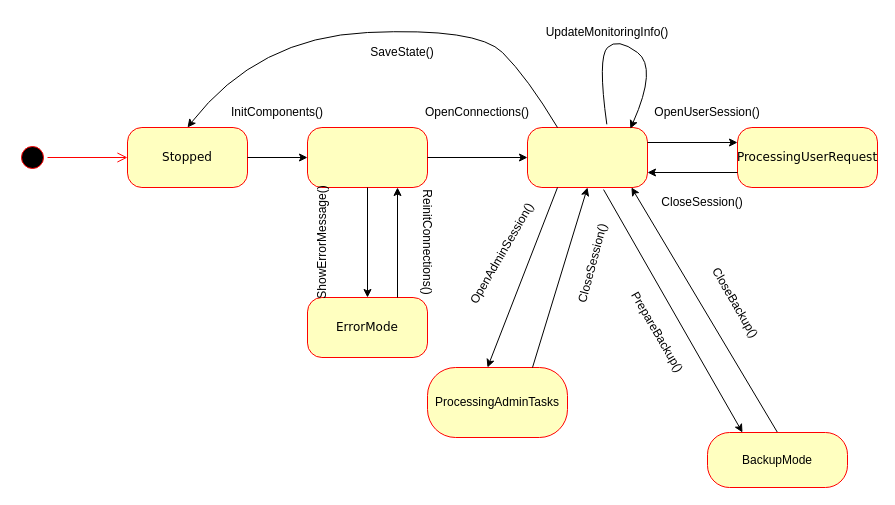
Some shapes in this 895 by 505 pixel diagram are drawn without their labels. Here are the shapes that lost their labels. From the top down, the centre of each, then its label:
At (367,157): "Initializing".
At (587,157): "Idle".
